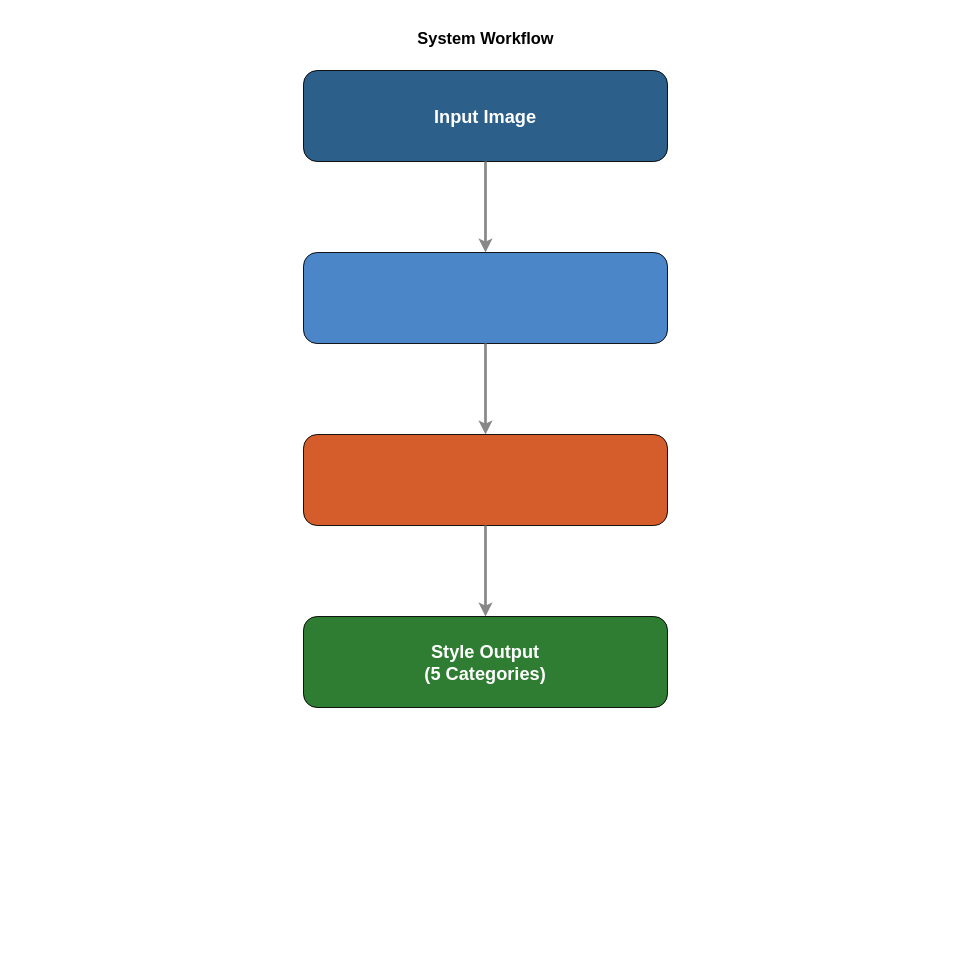
Some shapes in this 970 by 965 pixel diagram are drawn without their labels. Each missing label, with the centre of its shape:
"Classification (FC + Softmax)" belongs at (x=485, y=480).
"Preprocessing + Feature Extraction" belongs at (x=485, y=298).
